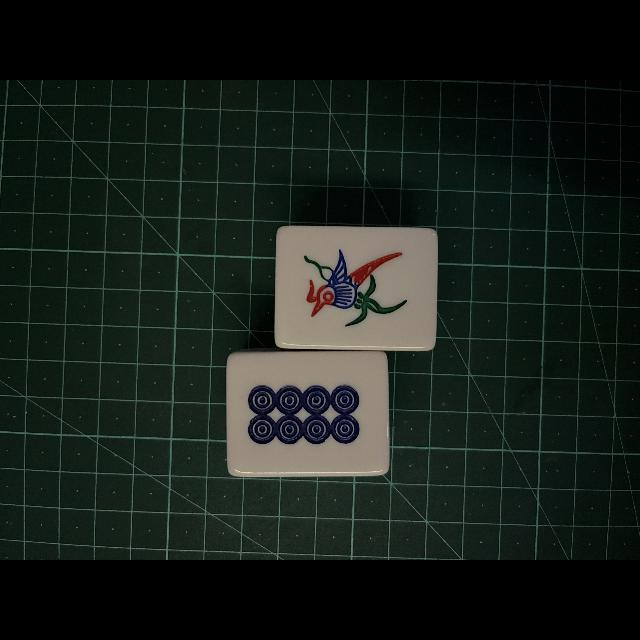b1: (276, 228, 434, 346)
d8: (229, 356, 385, 472)
